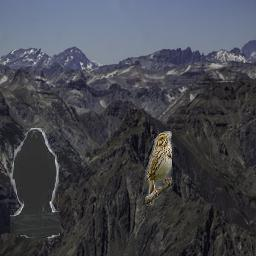Crow: (10, 128, 60, 238)
Sparrow: (146, 132, 173, 207)
